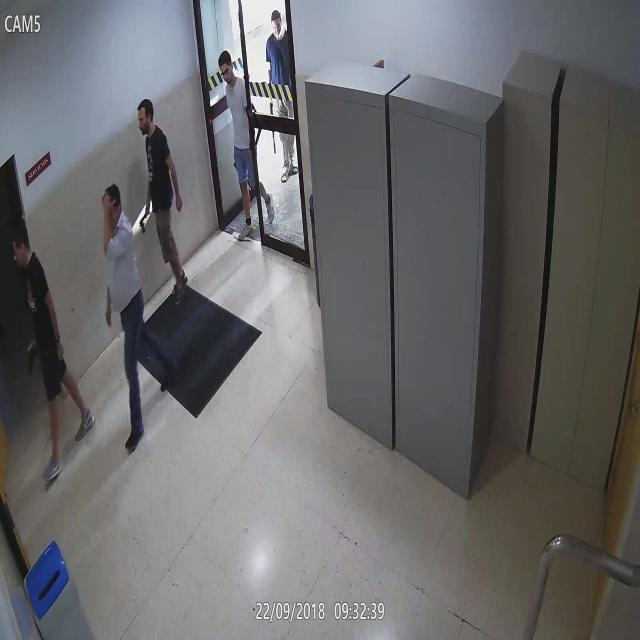Gun: (26, 334, 38, 380), (139, 210, 151, 235)
